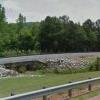Tree: (33, 9, 100, 60)
